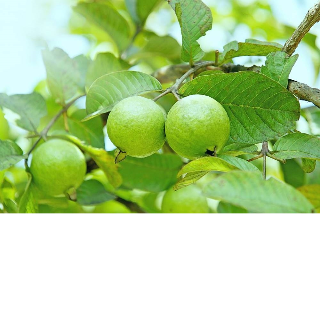oi: (159, 90, 235, 166), (102, 93, 170, 167), (25, 135, 89, 201)
